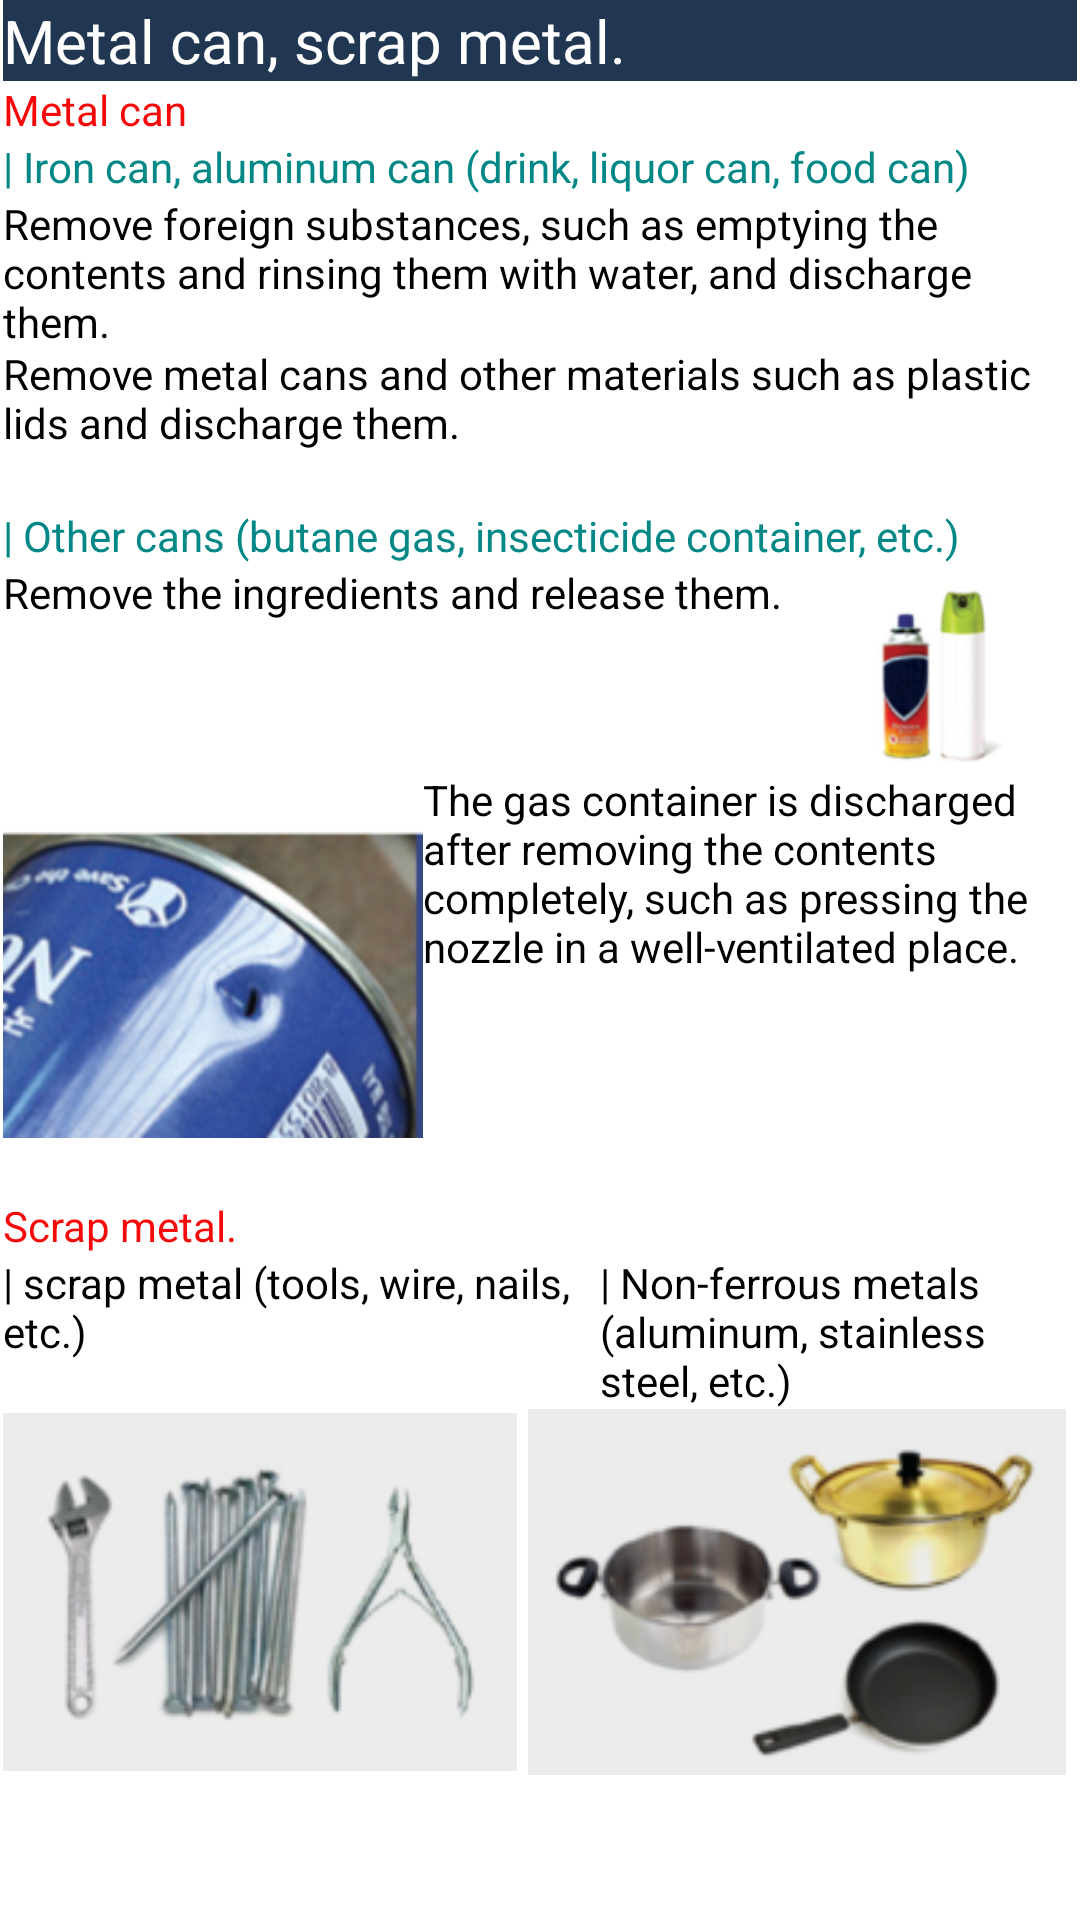

Where icons sit on this 1080×1920 app screen, as (x1, y1, x2, y2):
etccan: (882, 591, 996, 761)
